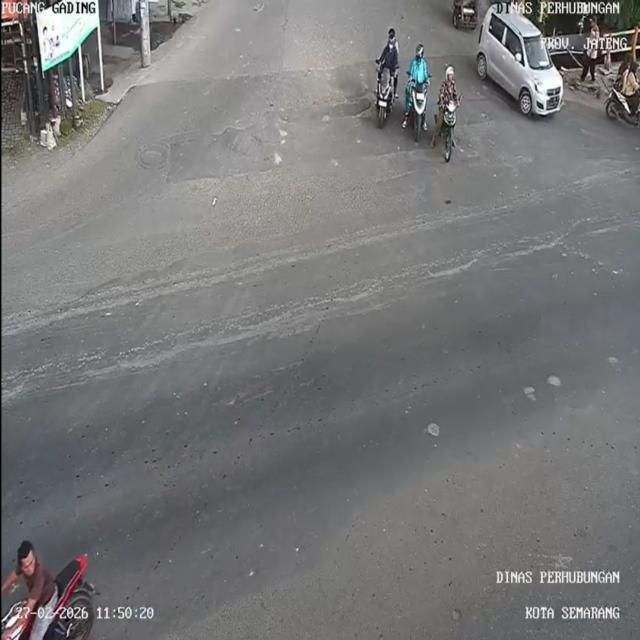motorcycle: (5, 552, 94, 640), (603, 87, 640, 125), (375, 67, 396, 128), (441, 96, 458, 166), (410, 78, 427, 141)
person: (8, 534, 62, 626), (406, 42, 429, 89), (439, 65, 462, 110), (377, 40, 401, 76), (628, 61, 640, 98), (617, 59, 629, 93), (388, 27, 398, 45)
rider_region: (3, 520, 97, 637), (372, 21, 402, 134), (439, 61, 464, 168), (604, 52, 640, 124), (407, 42, 430, 142)
